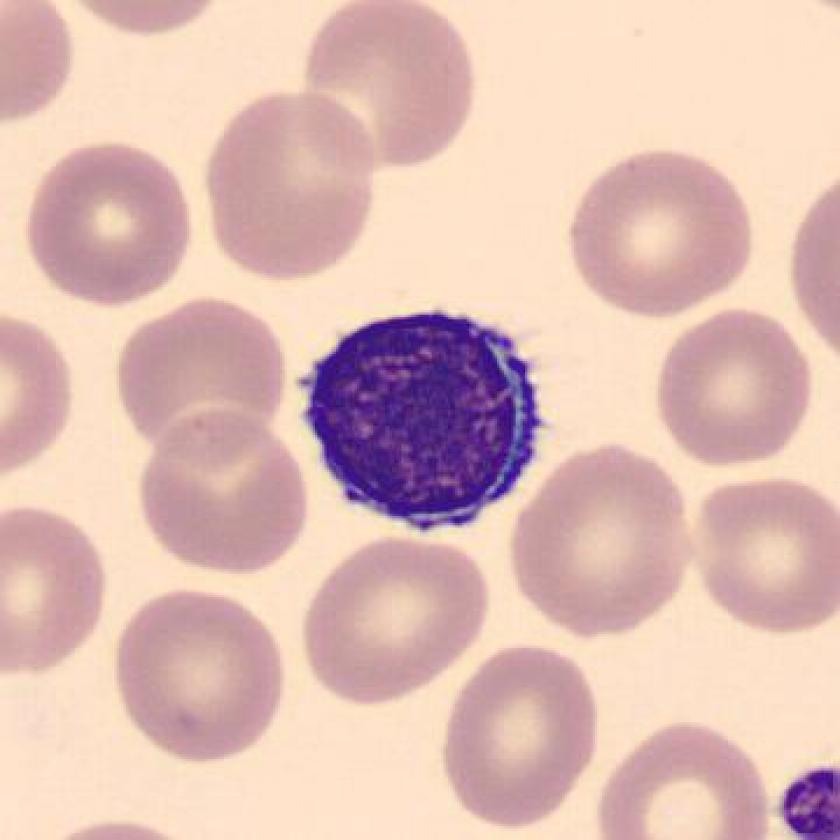lymphocyte: (286, 297, 566, 543)
